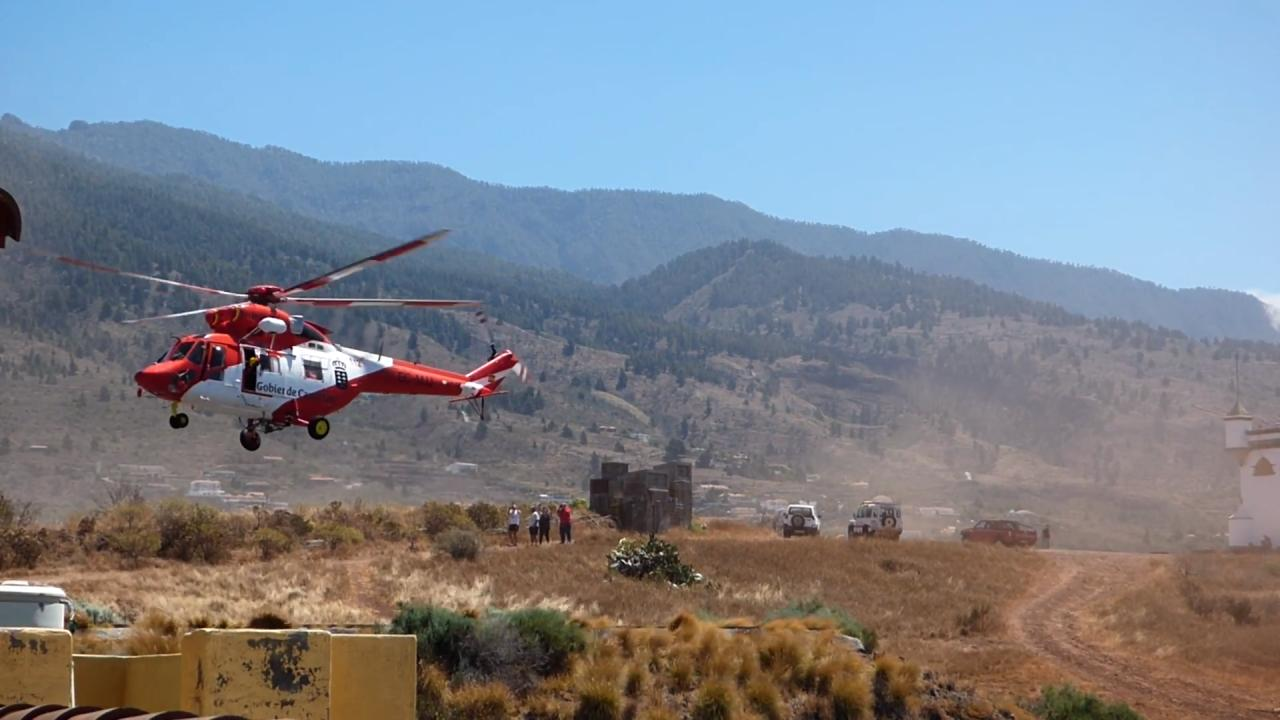Helicopter: (48, 213, 540, 470)
